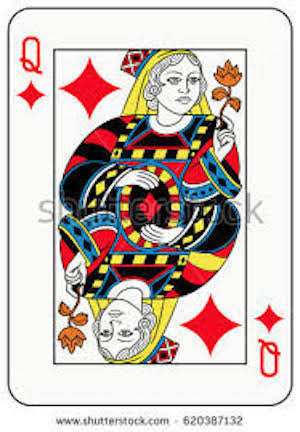QueenOfDiamonds: (8, 6, 300, 418)
